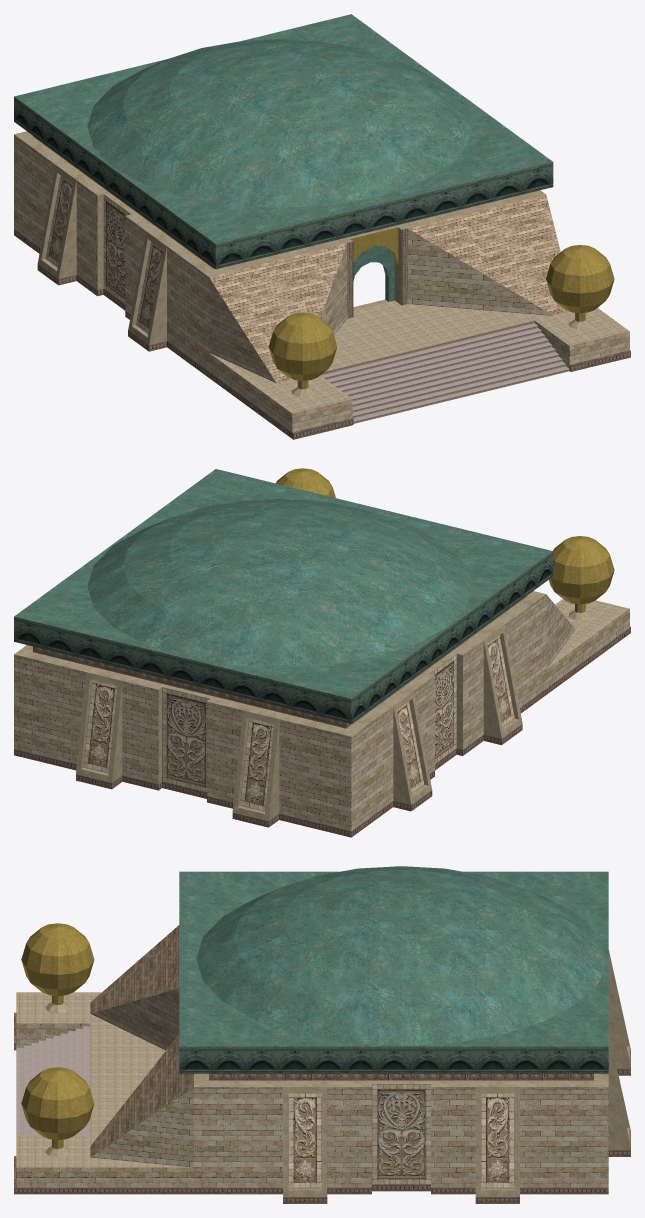
The model's file is mun_nboo_guild_commerce_s01_r0_exterior_mesh_nabo_guildcommerce_l0.fbx.
The picture shows the model from 3 angles, top to bottom: view 1: azimuth 30°, elevation 25°; view 2: azimuth 150°, elevation 25°; view 3: azimuth 270°, elevation 25°; orthographic projection. The views are drawn at different scales.
Visible parts, largest first — view 1: mesh_node; view 2: mesh_node; view 3: mesh_node.
Boxes of the visible parts, x1=… form: mesh_node: x1=14, y1=14, x2=630, y2=439; mesh_node: x1=14, y1=468, x2=630, y2=837; mesh_node: x1=14, y1=866, x2=630, y2=1203.
Size of the model in its own units: 38.75 by 18.75 by 52.08.
